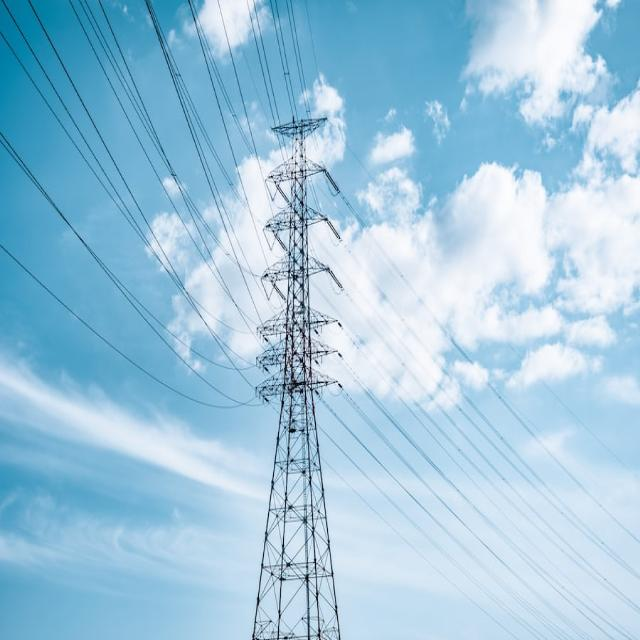transmission tower: (221, 85, 414, 622)
